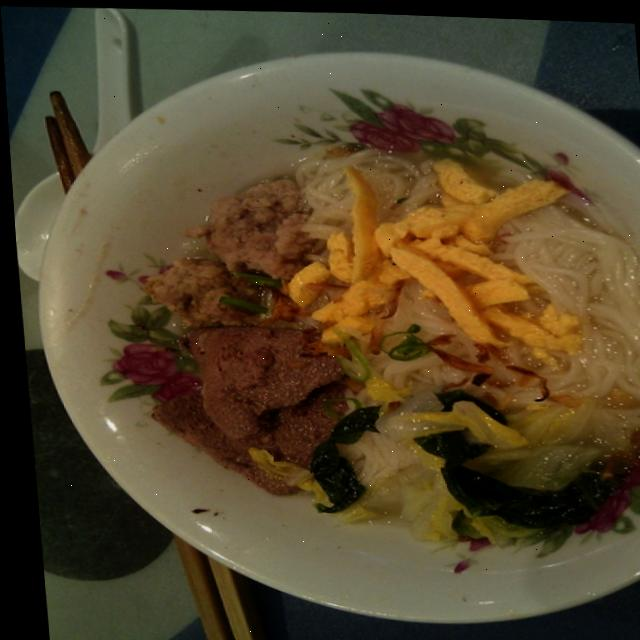面条主食: (36, 56, 640, 626)
